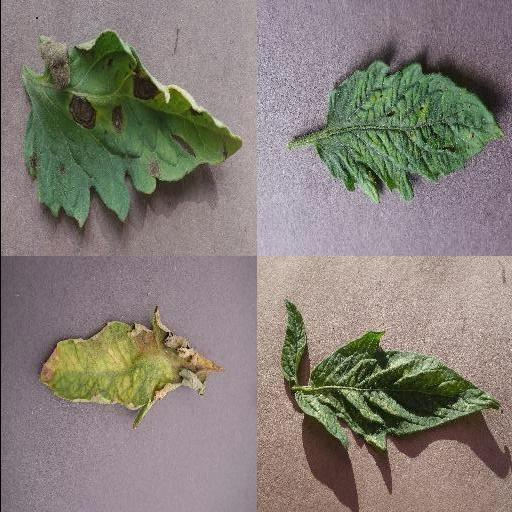Early Blight: (15, 30, 245, 228)
Late Blight: (36, 308, 222, 430)
Mosaic Virus: (316, 60, 506, 204)
Spider Mites: (293, 331, 500, 451)
